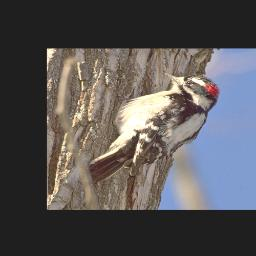Woodpecker: (88, 72, 220, 184)
